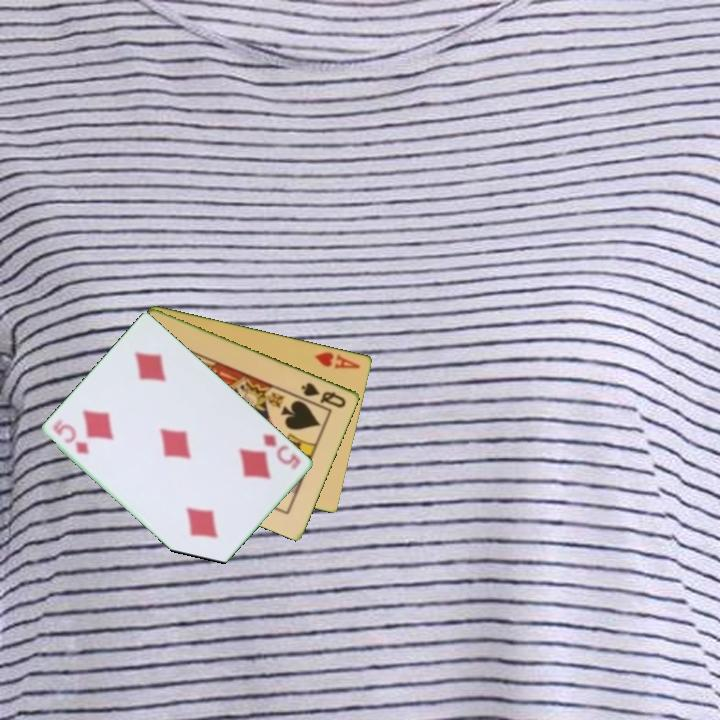5d: (260, 430, 304, 473), (50, 415, 92, 457)
Ah: (311, 348, 363, 372)
Qs: (298, 379, 349, 411)
